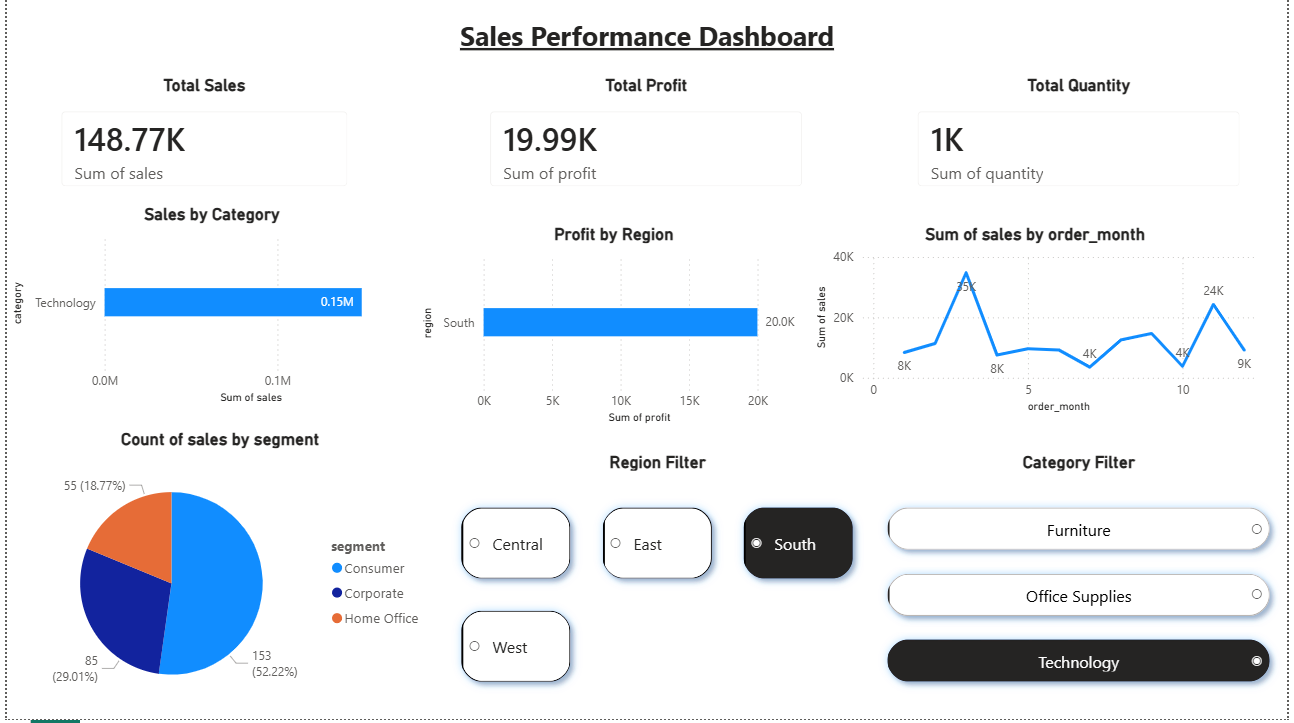

The dashboard page shown, as its layout file describes it:
{"tool":"powerbi","page":{"name":"Page 1","canvas":[1280,720],"ordinal":0},"visuals":[{"type":"clusteredBarChart","title":"Sales by Category","fields":{"Category":["cleaned_superstore (1).category"],"Y":["Sum(cleaned_superstore (1).sales)"]},"box":[0,205,410,205],"z":0},{"type":"clusteredBarChart","title":"Profit by Region","fields":{"Category":["cleaned_superstore (1).region"],"Y":["Sum(cleaned_superstore (1).profit)"]},"box":[410,225,393.8,205],"z":1000},{"type":"lineChart","fields":{"Category":["cleaned_superstore (1).order_month"],"Y":["Sum(cleaned_superstore (1).sales)"]},"box":[803.8,225,448.8,193.8],"z":2000},{"type":"pieChart","fields":{"Category":["cleaned_superstore (1).segment"],"Y":["CountNonNull(cleaned_superstore (1).sales)"]},"box":[0,430,426.2,290],"z":3000},{"type":"advancedSlicerVisual","title":"Region Filter ","fields":{"Values":["cleaned_superstore (1).region"]},"box":[437.5,452.5,426.2,267.5],"z":4000},{"type":"advancedSlicerVisual","title":"Category Filter","fields":{"Values":["cleaned_superstore (1).category"]},"box":[863.8,452.5,416.2,267.5],"z":5000},{"type":"cardVisual","title":"Total Sales","fields":{"Data":["Sum(cleaned_superstore (1).sales)"]},"box":[37.5,76.2,320,128.8],"z":6000},{"type":"cardVisual","title":"Total Profit","fields":{"Data":["Sum(cleaned_superstore (1).profit)"]},"box":[466.2,76.2,346.2,128.8],"z":7000},{"type":"cardVisual","title":"Total Quantity","fields":{"Data":["Sum(cleaned_superstore (1).quantity)"]},"box":[893.8,76.2,356.2,128.8],"z":8000},{"type":"textbox","box":[0,13.8,1280,53.8],"z":8001}]}

Visuals, with their boxes in screenshot pixels (x1, y1, x2, y2), scaled from the page's 1280x720 canvas onto the 1294x723 screenshot:
"Sales by Category" clusteredBarChart: left=0, top=206, right=414, bottom=412
"Profit by Region" clusteredBarChart: left=414, top=226, right=813, bottom=432
lineChart - cleaned_superstore (1).order_month x Sum(cleaned_superstore (1).sales): left=813, top=226, right=1266, bottom=421
pieChart - cleaned_superstore (1).segment x CountNonNull(cleaned_superstore (1).sales): left=0, top=432, right=431, bottom=722
"Region Filter " advancedSlicerVisual: left=442, top=454, right=873, bottom=722
"Category Filter" advancedSlicerVisual: left=873, top=454, right=1293, bottom=722
"Total Sales" cardVisual: left=38, top=77, right=361, bottom=206
"Total Profit" cardVisual: left=471, top=77, right=821, bottom=206
"Total Quantity" cardVisual: left=904, top=77, right=1264, bottom=206
textbox: left=0, top=14, right=1293, bottom=68
